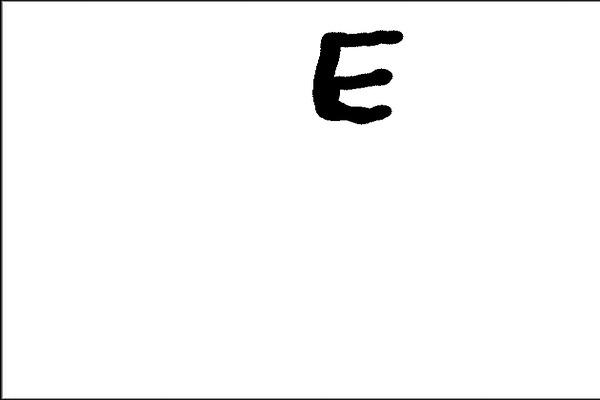E: (308, 26, 406, 126)
